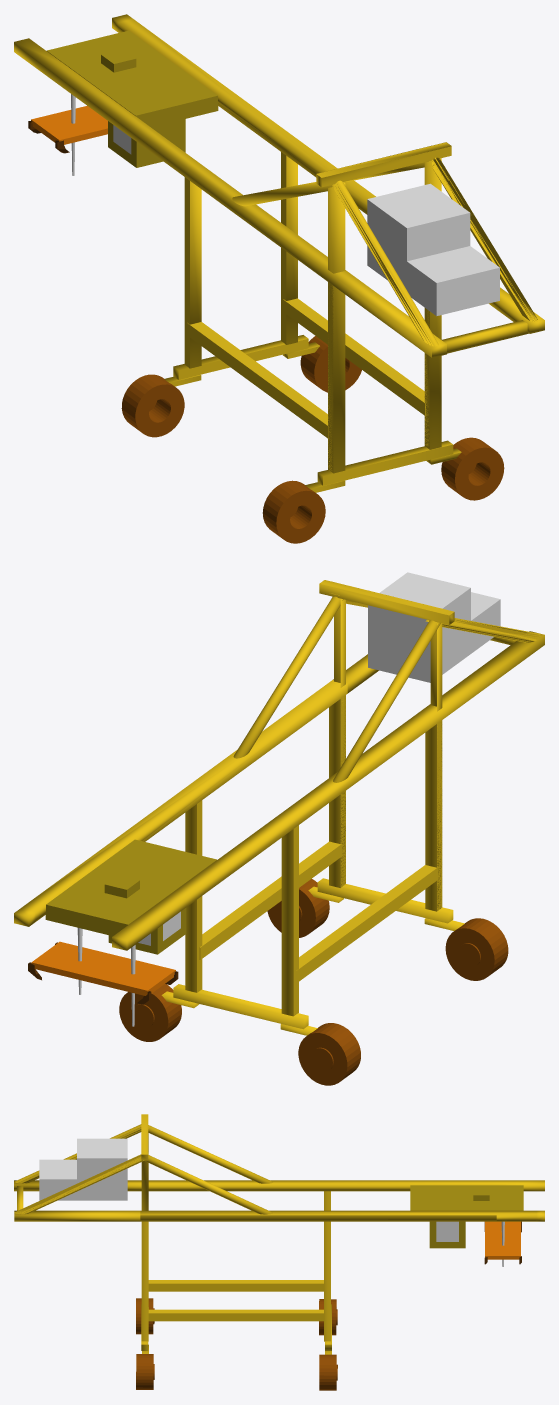
File: crane_harbour.glb
3 views of the same model, one above another, from view 1: azimuth 30°, elevation 25°; view 2: azimuth 150°, elevation 25°; view 3: azimuth 270°, elevation 25° (orthographic). The views are drawn at different scales.
Visible parts, largest first — view 1: 框架, Cube, 滑车.003, 轮胎3, 轮胎2, 轮胎4, 滑板, 滑车.004, 轮胎1; view 2: 框架, 滑车.003, Cube, 滑板, 轮胎3, 轮胎2, 轮胎1, 轮胎4, 滑车.004, 滑车.005; view 3: 框架, Cube, 滑车.003, 滑板, 轮胎1, 轮胎4, 滑车.004, 滑车.002, 轮胎3.
Part boxes in pixels (x1=…): 框架: x1=14, y1=14, x2=544, y2=492; Cube: x1=367, y1=183, x2=499, y2=316; 滑车.003: x1=47, y1=30, x2=218, y2=127; 轮胎3: x1=262, y1=480, x2=325, y2=543; 轮胎2: x1=121, y1=374, x2=184, y2=437; 轮胎4: x1=441, y1=437, x2=504, y2=500; 滑板: x1=28, y1=106, x2=107, y2=153; 滑车.004: x1=108, y1=119, x2=185, y2=167; 轮胎1: x1=300, y1=336, x2=361, y2=392; 框架: x1=14, y1=580, x2=544, y2=1035; 滑车.003: x1=45, y1=839, x2=216, y2=936; Cube: x1=368, y1=572, x2=500, y2=682; 滑板: x1=28, y1=941, x2=178, y2=1004; 轮胎3: x1=445, y1=918, x2=508, y2=980; 轮胎2: x1=298, y1=1023, x2=360, y2=1085; 轮胎1: x1=119, y1=984, x2=181, y2=1041; 轮胎4: x1=267, y1=879, x2=329, y2=937; 滑车.004: x1=108, y1=908, x2=186, y2=954; 滑车.005: x1=104, y1=875, x2=139, y2=898; 框架: x1=14, y1=1114, x2=544, y2=1354; Cube: x1=39, y1=1138, x2=127, y2=1200; 滑车.003: x1=410, y1=1185, x2=523, y2=1210; 滑板: x1=484, y1=1221, x2=521, y2=1264; 轮胎1: x1=319, y1=1354, x2=337, y2=1390; 轮胎4: x1=136, y1=1354, x2=154, y2=1389; 滑车.004: x1=429, y1=1221, x2=465, y2=1248; 滑车.002: x1=436, y1=1221, x2=458, y2=1241; 轮胎3: x1=136, y1=1298, x2=154, y2=1334.
Size of what is drawn, in the model's own units: 9.4 by 13.84 by 29.41.
